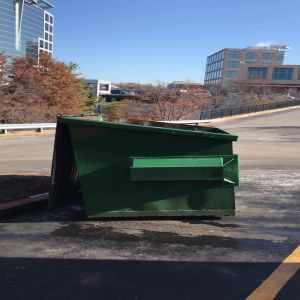Dumpster: (47, 113, 248, 219)
